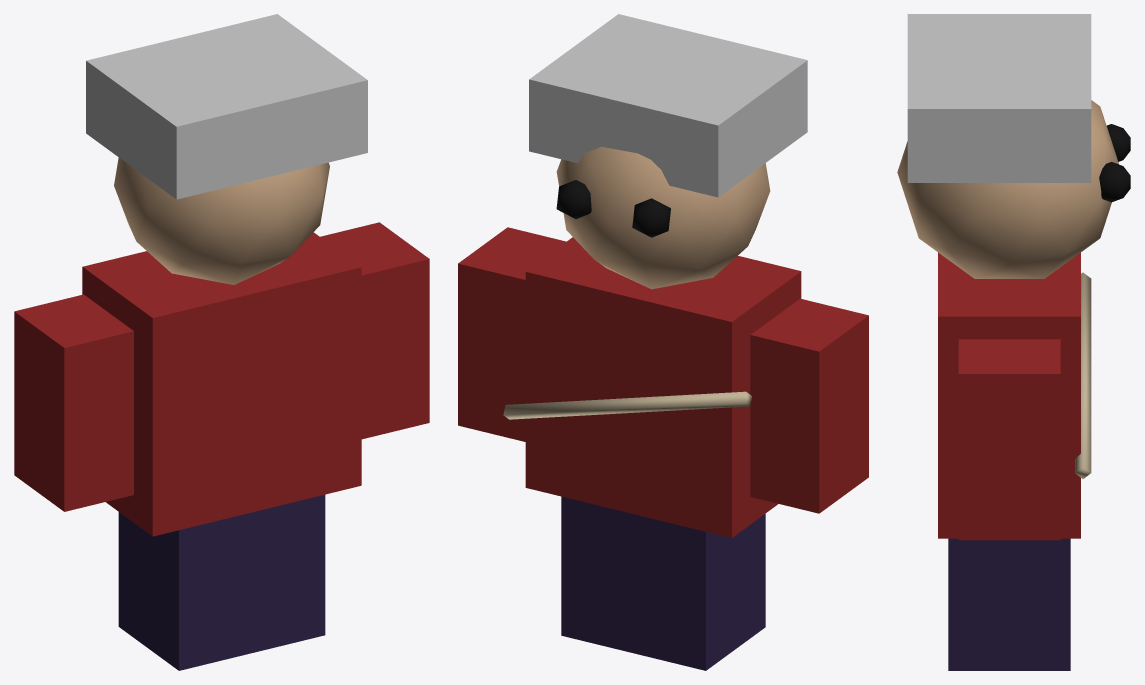
The model's file is clothier_voodoo_doll.glb.
3 renders of one model, left to right at view 1: azimuth 30°, elevation 25°; view 2: azimuth 150°, elevation 25°; view 3: azimuth 270°, elevation 25°, orthographic. The views are drawn at different scales.
Parts seen in each view (by area): view 1: clothier_voodoo_doll_v0; view 2: clothier_voodoo_doll_v0; view 3: clothier_voodoo_doll_v0.
Boxes of the visible parts, left/top/right/bottom form: clothier_voodoo_doll_v0: left=14, top=14, right=429, bottom=670; clothier_voodoo_doll_v0: left=458, top=14, right=868, bottom=670; clothier_voodoo_doll_v0: left=897, top=14, right=1130, bottom=670.
Size of the model in its own units: 0.21 by 0.31 by 0.1144.
